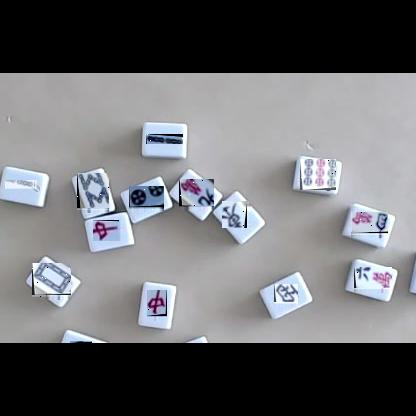1z: (223, 201, 252, 228)
2p: (129, 187, 164, 212)
2s: (6, 181, 40, 192), (146, 134, 183, 144)
3z: (274, 285, 298, 307), (70, 341, 92, 343)
4m: (351, 213, 388, 238)
5z: (32, 264, 71, 300)
6m: (354, 268, 392, 293)
7z: (94, 220, 124, 241), (147, 291, 167, 321)
8s: (77, 174, 109, 213)
9m: (179, 180, 214, 211)
9p: (300, 159, 336, 190)
